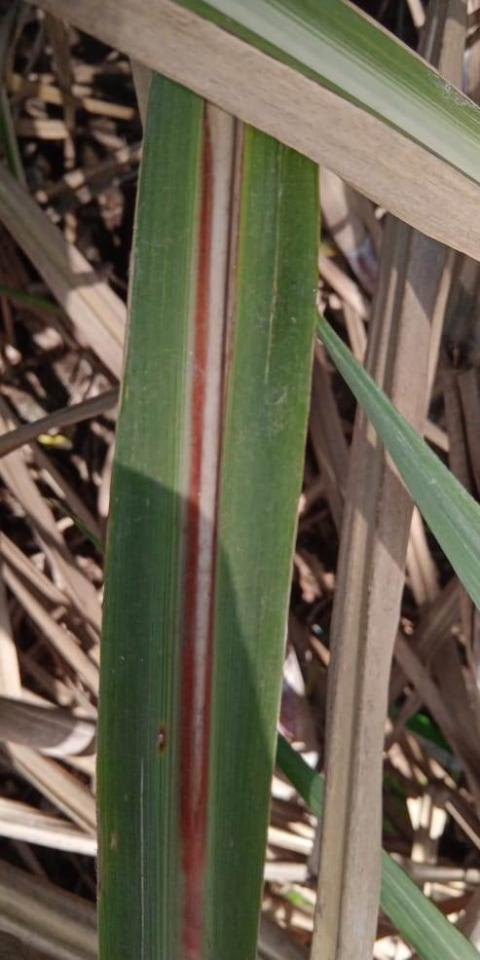RedRot: (178, 99, 243, 959)
